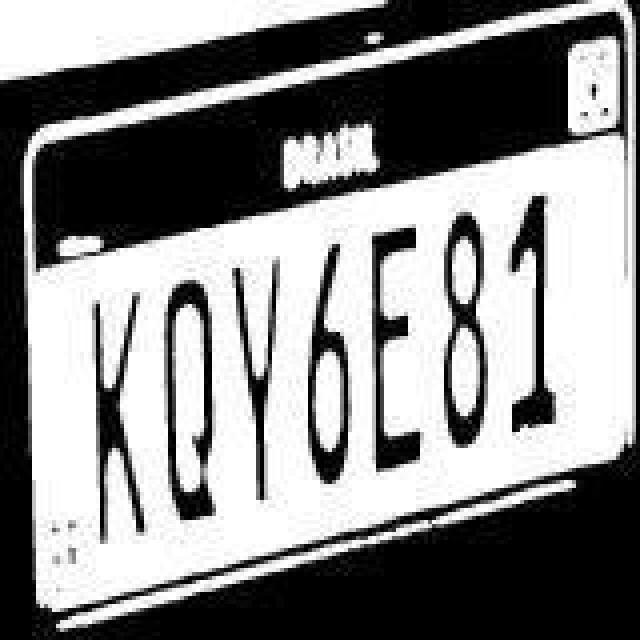1: (502, 190, 562, 442)
6: (296, 240, 360, 496)
8: (436, 208, 492, 456)
E: (364, 222, 428, 482)
K: (82, 284, 150, 548)
Q: (154, 276, 222, 532)
Y: (228, 250, 292, 510)
